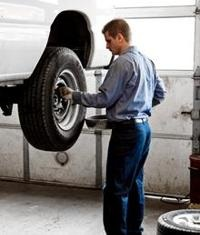person without safety: (95, 17, 166, 235)
